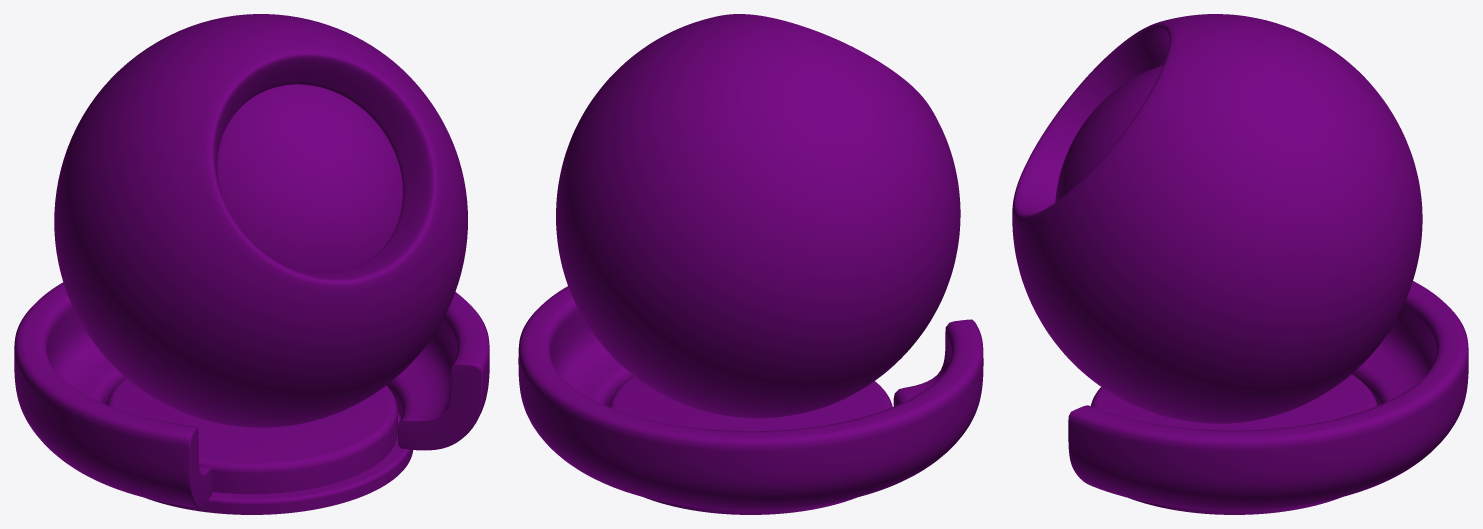
The model's file is standard_surface_velvet.mtlx.glb.
3 views of the same model, side by side, from view 1: azimuth 30°, elevation 25°; view 2: azimuth 150°, elevation 25°; view 3: azimuth 270°, elevation 25° (orthographic). The views are drawn at different scales.
Visible parts, largest first — view 1: Preview_Mesh, Calibration_Mesh; view 2: Preview_Mesh, Calibration_Mesh; view 3: Preview_Mesh, Calibration_Mesh.
Boxes of the visible parts, <box> form: Preview_Mesh: <box>14,14,489,507</box>; Calibration_Mesh: <box>106,84,413,514</box>; Preview_Mesh: <box>518,14,983,510</box>; Calibration_Mesh: <box>609,376,892,514</box>; Preview_Mesh: <box>1012,14,1468,510</box>; Calibration_Mesh: <box>1055,65,1377,514</box>.
Bounding box in the file's own units: 2.14 × 2.09 × 2.08.
